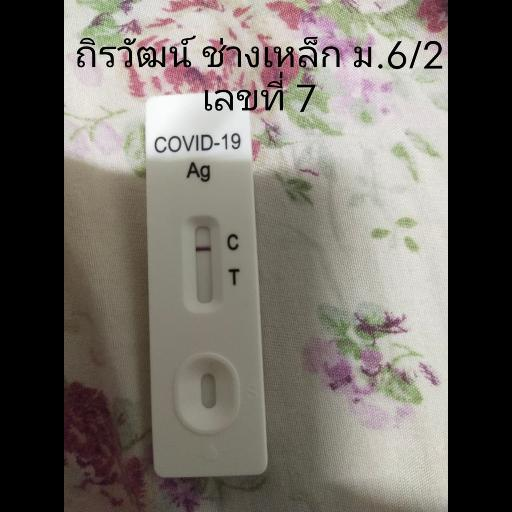Neg: (145, 92, 265, 474)
